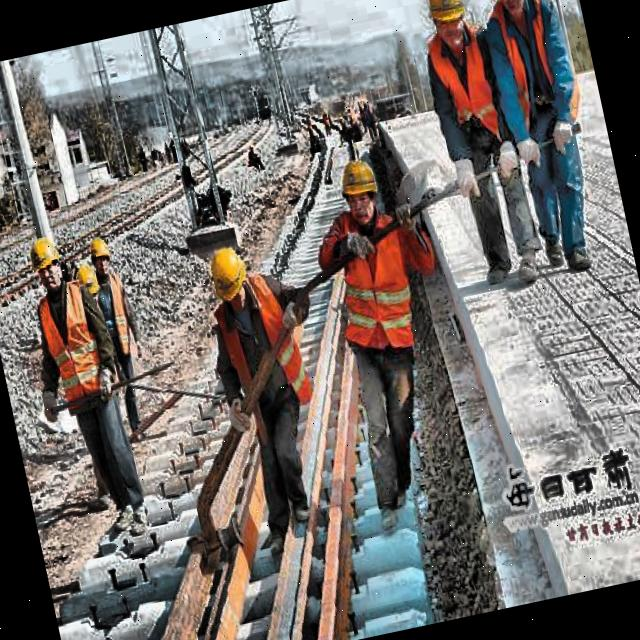helmet: (330, 150, 388, 228), (198, 237, 256, 315), (24, 228, 68, 292), (419, 0, 475, 50), (80, 226, 121, 287), (481, 0, 536, 20)
